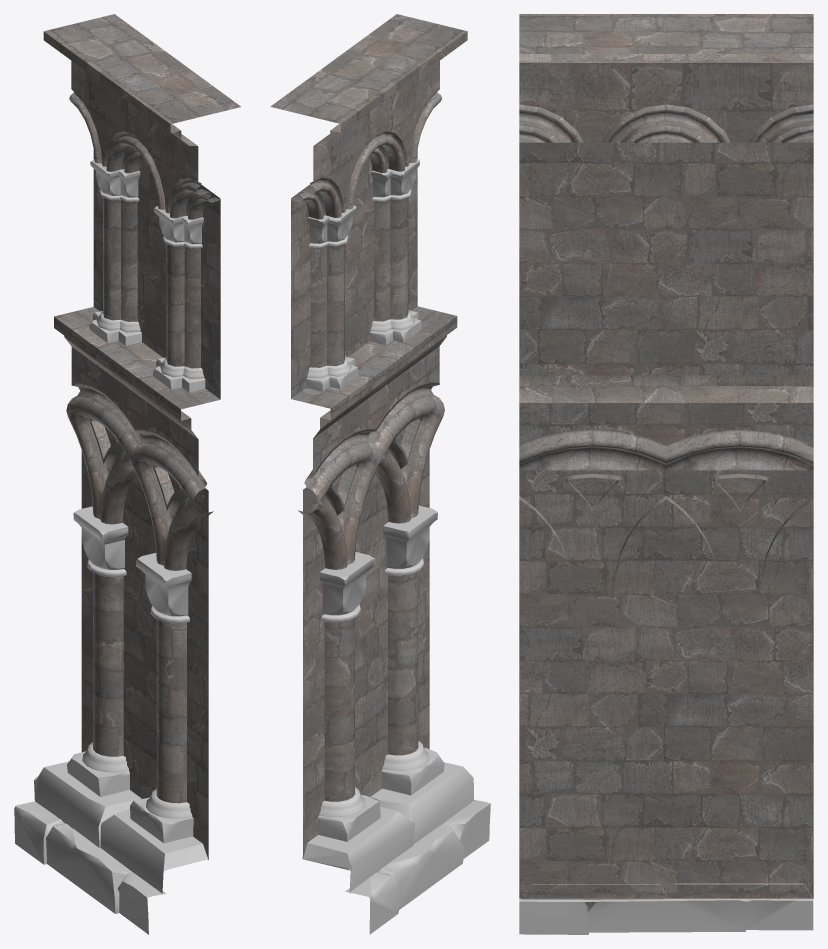
3 views of the same model, side by side, from view 1: azimuth 30°, elevation 25°; view 2: azimuth 150°, elevation 25°; view 3: azimuth 270°, elevation 25° (orthographic). The views are drawn at different scales.
Visible parts, largest first — view 1: SM_DungeonArcadeWall_Small_LOD0; view 2: SM_DungeonArcadeWall_Small_LOD0; view 3: SM_DungeonArcadeWall_Small_LOD0.
Boxes of the visible parts, left/top/right/bottom form: SM_DungeonArcadeWall_Small_LOD0: left=14, top=14, right=240, bottom=934; SM_DungeonArcadeWall_Small_LOD0: left=270, top=14, right=490, bottom=934; SM_DungeonArcadeWall_Small_LOD0: left=519, top=14, right=813, bottom=934.
Size of the model in its own units: 0.9141 by 7 by 2.
